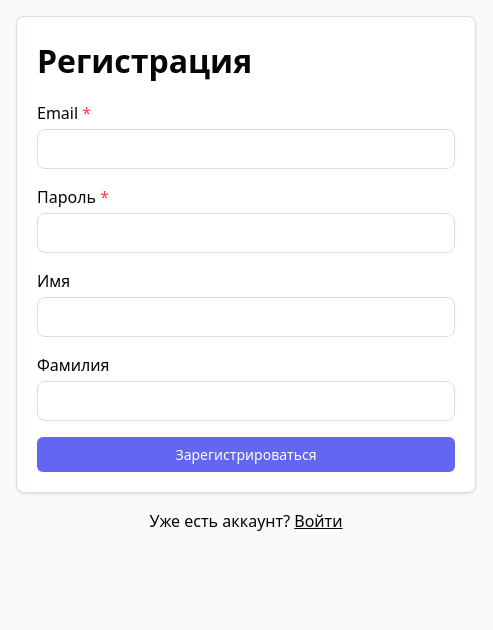
RegisterPage › показывает ошибку при дублировании email
Type "exists@test.com" into the field labelled "Email *" at {"x": 246, "y": 149}, box [37, 129, 455, 169]
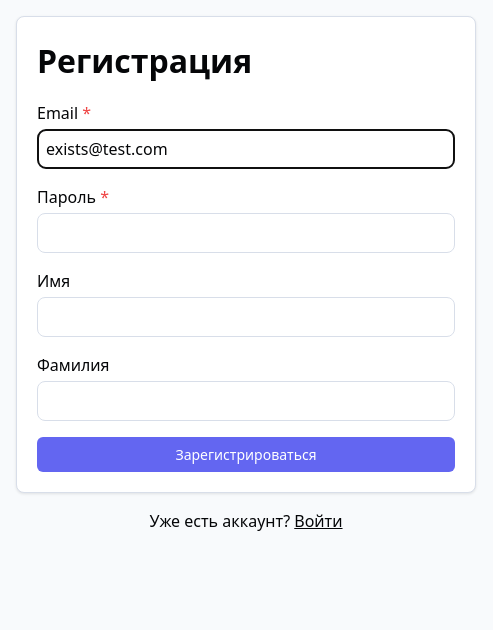
Type "password123" into the password field labelled "Пароль *" at {"x": 246, "y": 233}, box [37, 213, 455, 253]
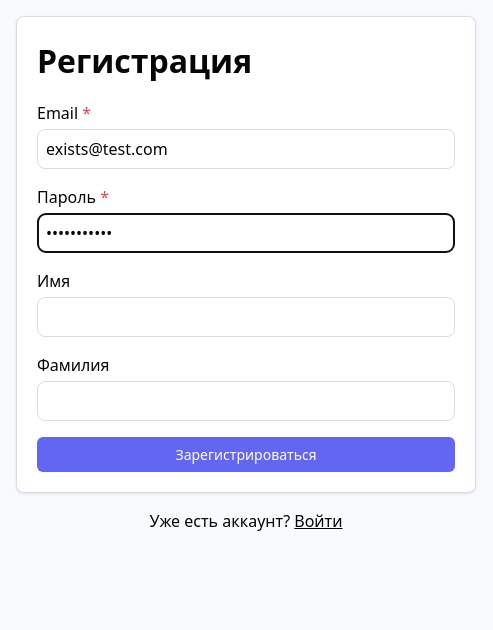
Click the button "Зарегистрироваться" at {"x": 246, "y": 454}, box [37, 437, 455, 472]
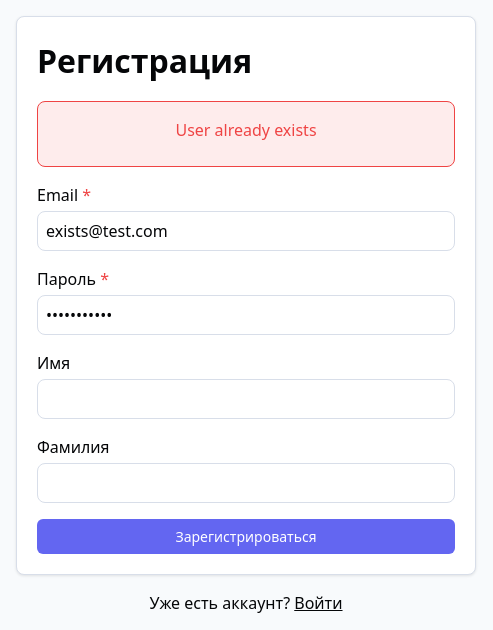
Now the text "User already exists" is shown, box [175, 119, 316, 141]
